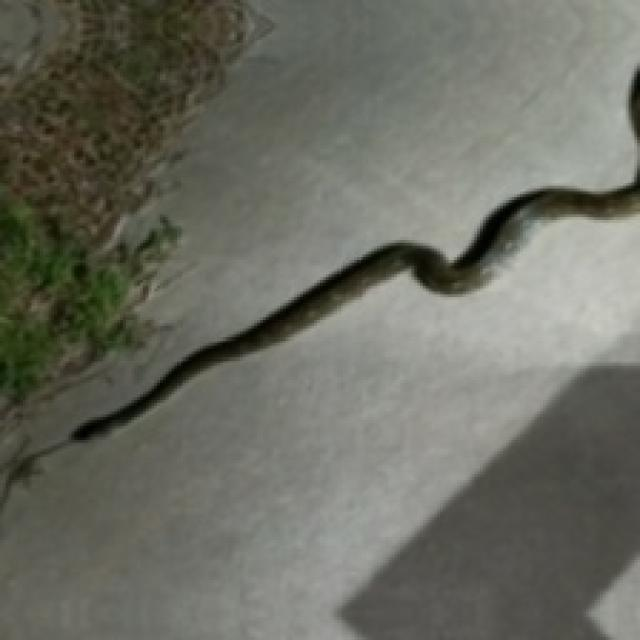reticulated python: (71, 171, 637, 437)
